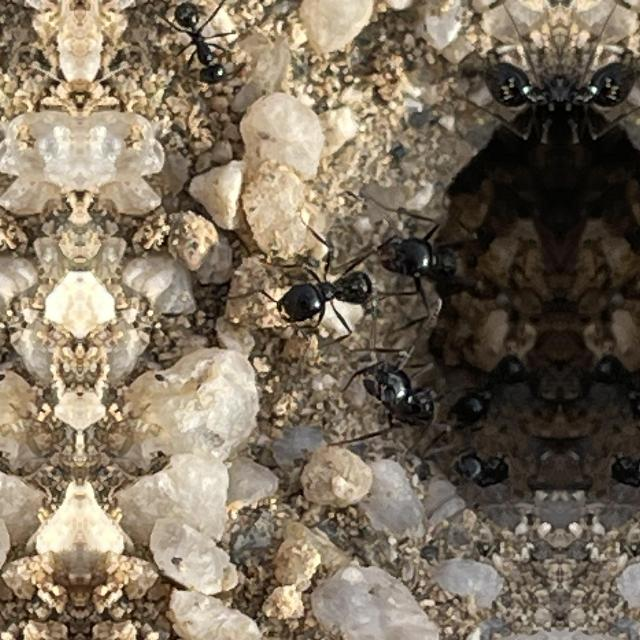Messor: (473, 24, 559, 154), (266, 244, 380, 336), (561, 24, 640, 154), (352, 350, 442, 436), (154, 0, 236, 90), (448, 351, 530, 423), (393, 226, 467, 292), (589, 351, 640, 423), (444, 442, 506, 486), (613, 441, 640, 486)
